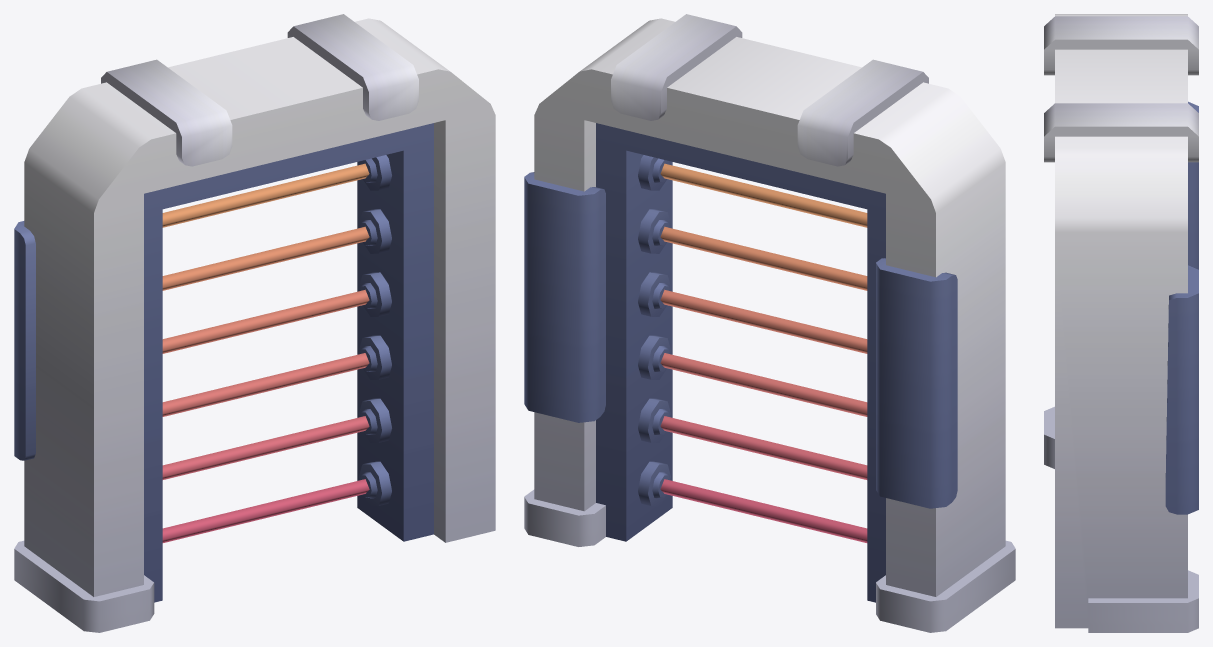
The model's file is kenney-space-modular-gate-lasers.glb.
3 views of the same model, side by side, from view 1: azimuth 30°, elevation 25°; view 2: azimuth 150°, elevation 25°; view 3: azimuth 270°, elevation 25° (orthographic). The views are drawn at different scales.
Parts seen in each view (by area): view 1: gate-lasers, lasers, Group (×6); view 2: gate-lasers, lasers, Group (×6); view 3: gate-lasers.
Boxes of the visible parts, x1=… form: gate-lasers: x1=14, y1=14, x2=495, y2=632; lasers: x1=162, y1=163, x2=369, y2=542; Group (×6): x1=359, y1=155, x2=391, y2=506; gate-lasers: x1=524, y1=14, x2=1015, y2=632; lasers: x1=660, y1=163, x2=867, y2=542; Group (×6): x1=638, y1=155, x2=670, y2=506; gate-lasers: x1=1044, y1=14, x2=1198, y2=632.
Bounding box in the file's own units: 4.2 × 4.62 × 1.4.
1 material, 1 textured.
